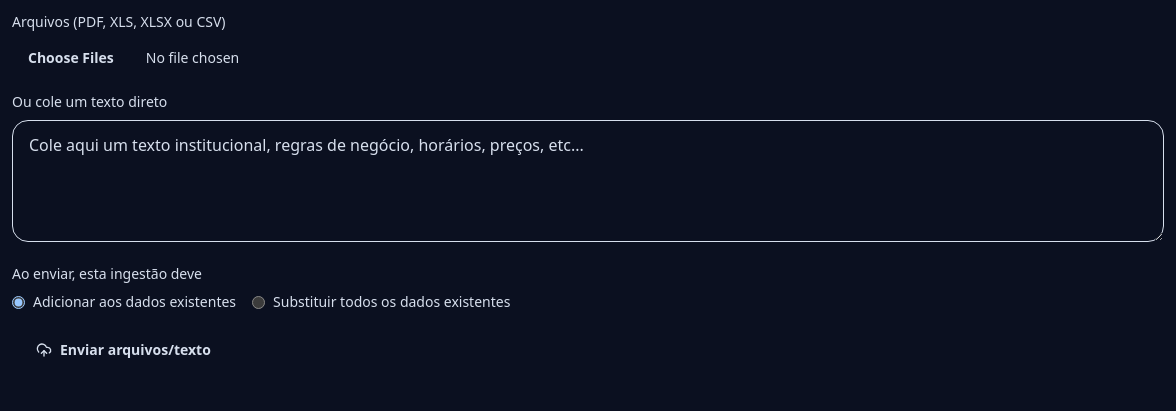
Test case: KnowledgeBaseUploadForm › blocks submission when nothing valid is selected
The width and height of the screenshot is (1176, 411).
Click the button "Enviar arquivos/texto".
click(123, 350)  # box [12,328,235,372]
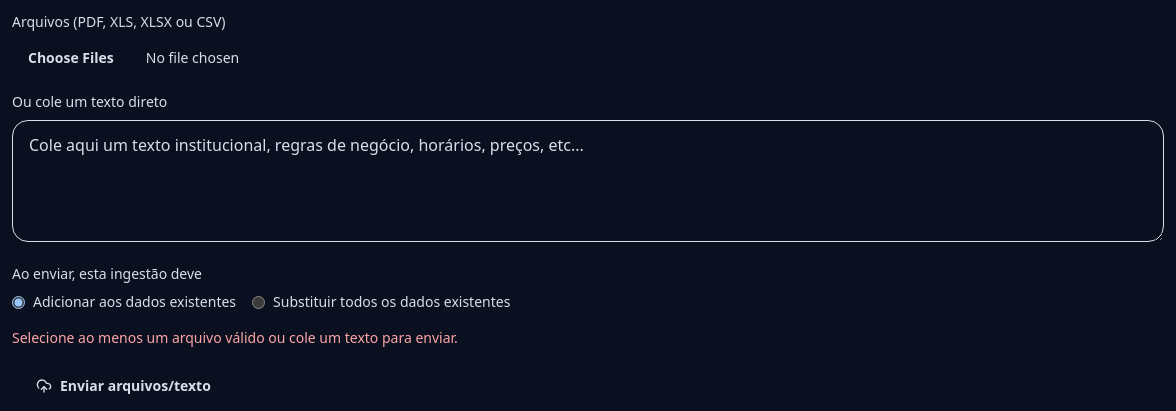
Result: the text "Selecione ao menos um arquivo válido ou cole um texto para enviar." is shown at [12,328,458,347]
